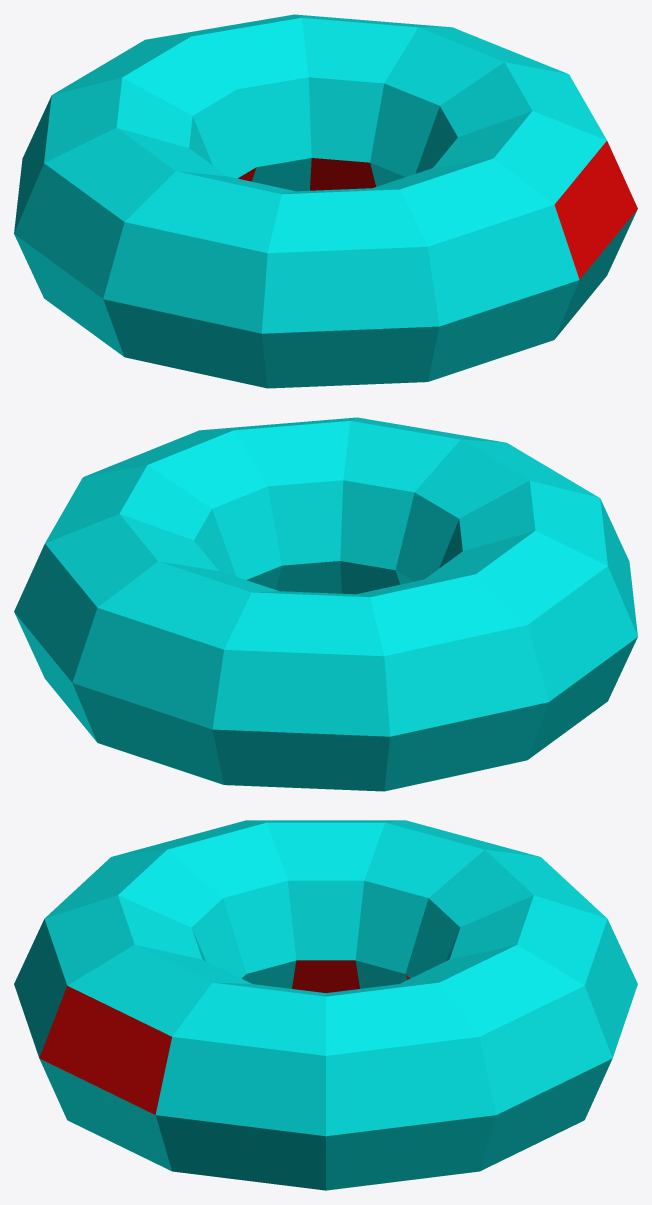
The model's file is multimesh_l.fbx.
3 views of the same model, one above another, from view 1: azimuth 30°, elevation 25°; view 2: azimuth 150°, elevation 25°; view 3: azimuth 270°, elevation 25° (orthographic).
Visible parts, largest first — view 1: pTorus1; view 2: pTorus1; view 3: pTorus1.
Boxes of the visible parts, bbox=[...] form: pTorus1: bbox=[14, 14, 637, 388]; pTorus1: bbox=[14, 417, 637, 791]; pTorus1: bbox=[14, 820, 637, 1190].
Size of the model in its own units: 2.94 by 1 by 2.97.
